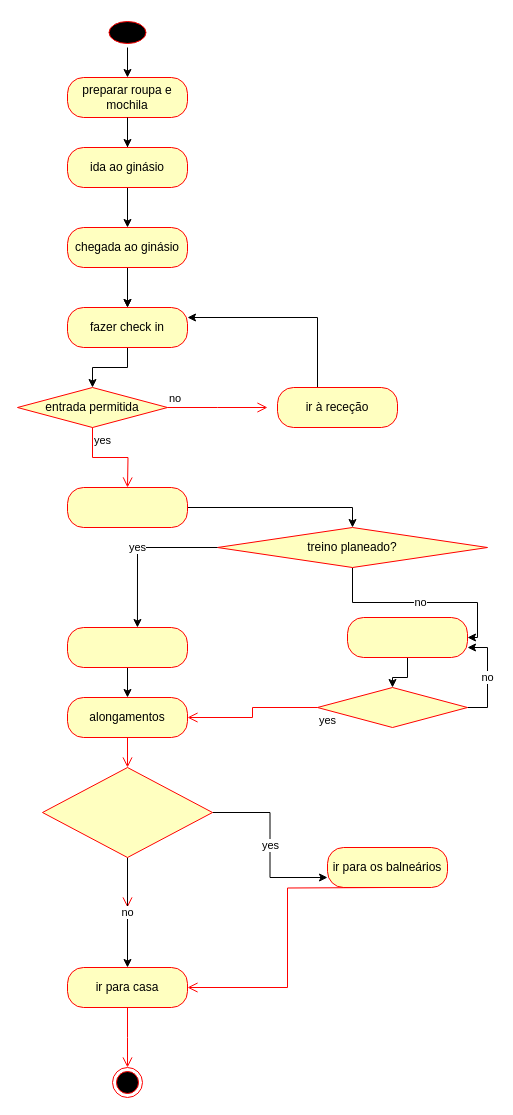
Image size: 513x1115. Some labels were removed from this diagram. Here are the shapes that lost their labels. From the top down, the centre of each, then its label:
(x=127, y=507): aquecimento
(x=127, y=647): seguir palno
(x=407, y=637): escolher exercícios
(x=392, y=707): cansado?
(x=127, y=812): banho ?
